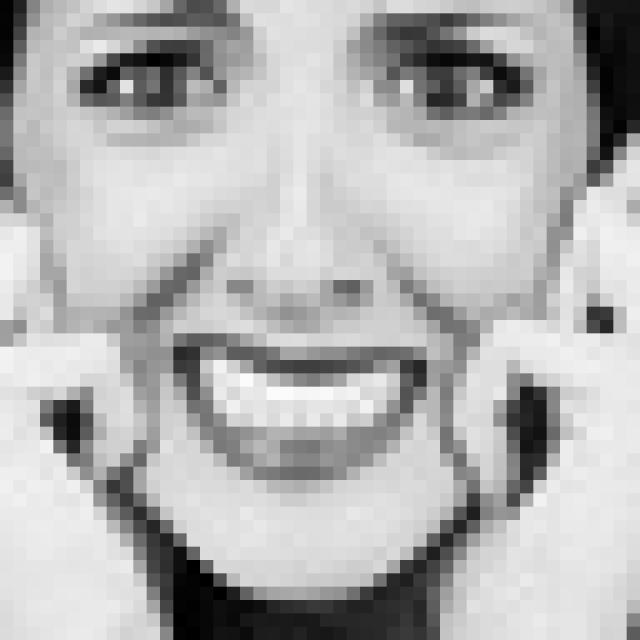fear: (53, 0, 564, 490)
